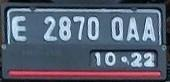clone-license-plate: (5, 5, 162, 70)
